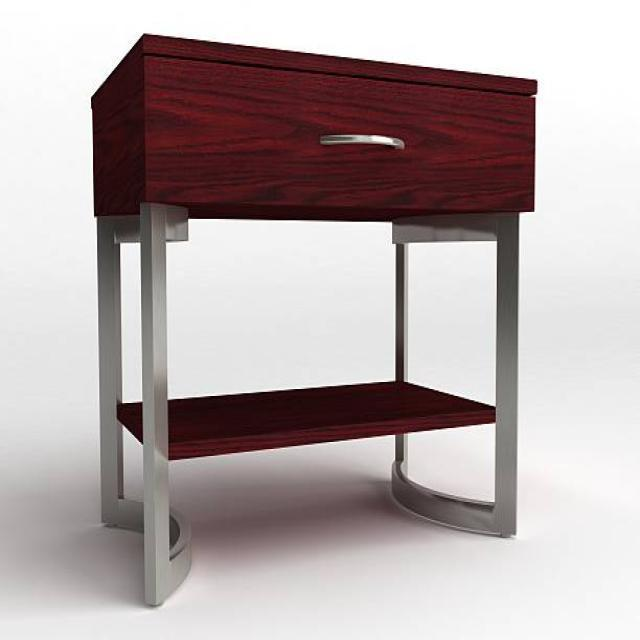table: (90, 31, 538, 606)
